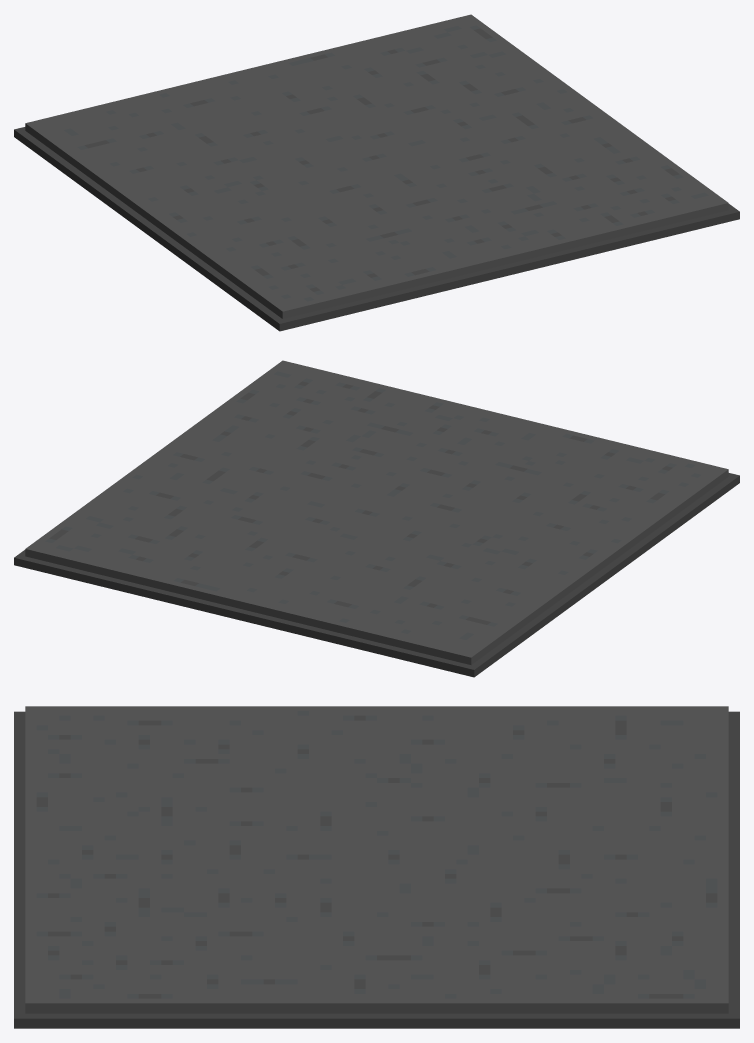
The model's file is Floor_Tile.obj.
3 renders of one model, top to bottom at view 1: azimuth 30°, elevation 25°; view 2: azimuth 150°, elevation 25°; view 3: azimuth 270°, elevation 25°, orthographic. The views are drawn at different scales.
Size of the model in its own units: 6.4 by 0.2 by 6.4.
1 material, 1 textured.
